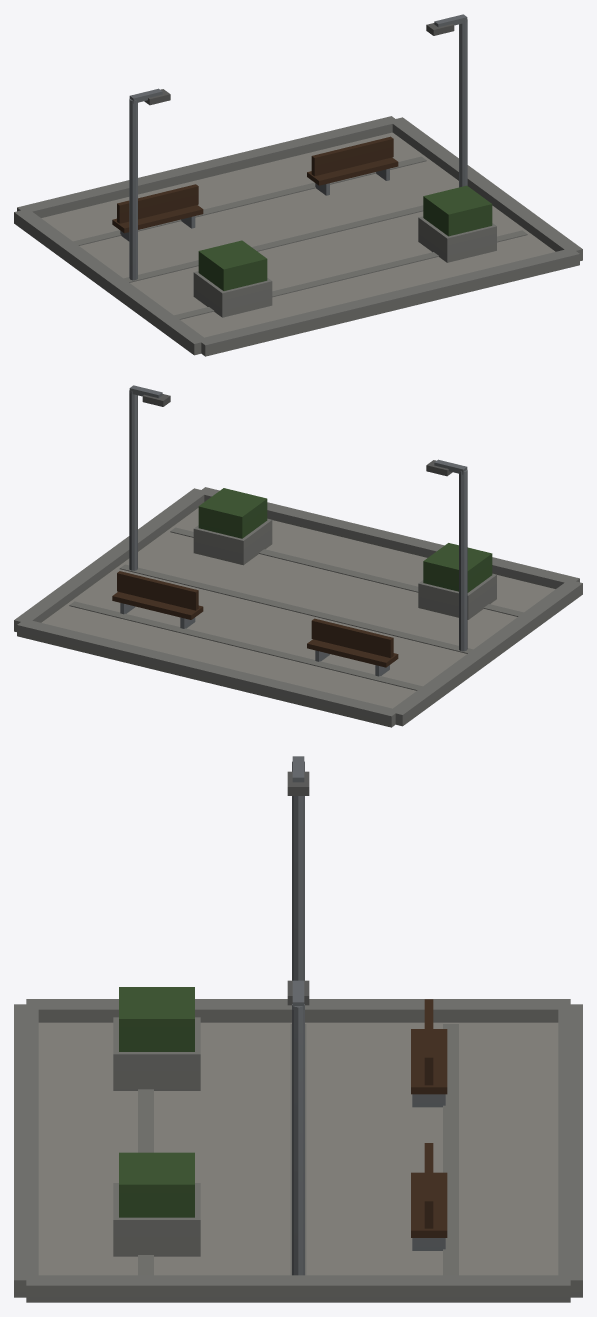
Rendered from yard_city_forecourt.glb.
3 views of the same model, one above another, from view 1: azimuth 30°, elevation 25°; view 2: azimuth 150°, elevation 25°; view 3: azimuth 270°, elevation 25° (orthographic). The views are drawn at different scales.
Parts seen in each view (by area): view 1: prop; view 2: prop; view 3: prop.
Part boxes in pixels (box(x1,y1,x2,y2)): prop: box(14, 14, 582, 356); prop: box(14, 385, 582, 727); prop: box(14, 756, 582, 1302).
Bounding box in the file's own units: 9.34 × 4.26 × 7.84.
